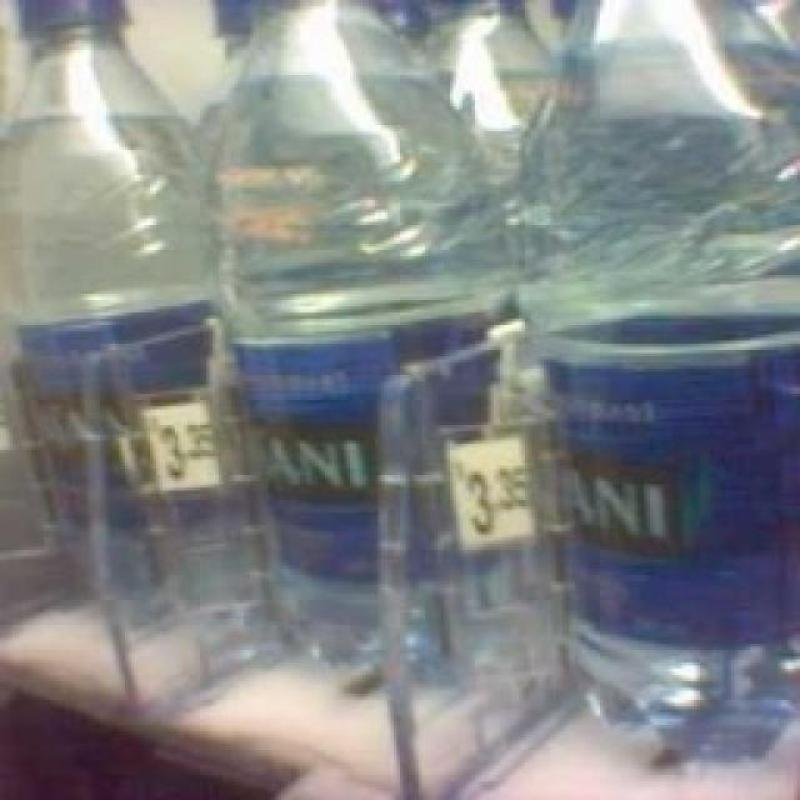botella: (521, 0, 800, 756), (211, 0, 524, 665), (0, 0, 262, 625), (425, 0, 556, 190), (194, 0, 250, 162)
